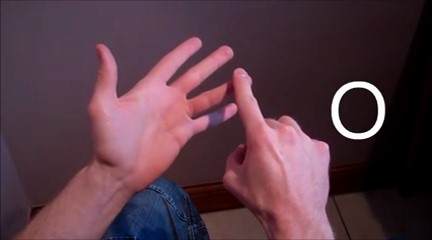O: (80, 29, 335, 211)
